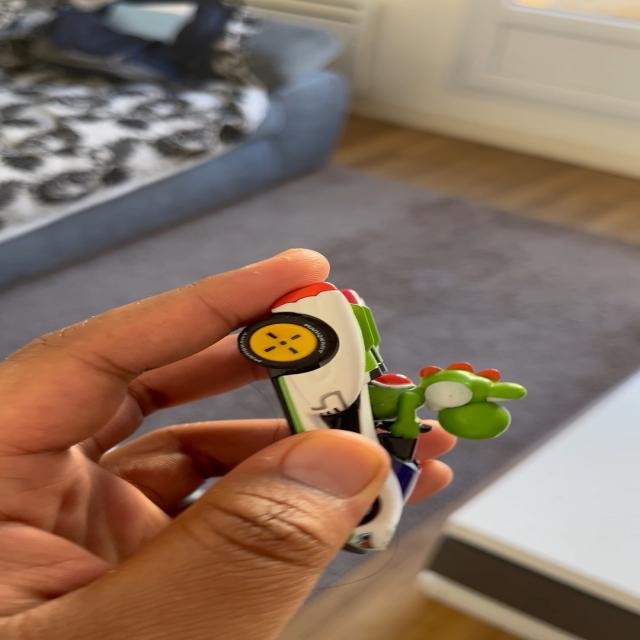yoshi: (240, 275, 547, 569)
